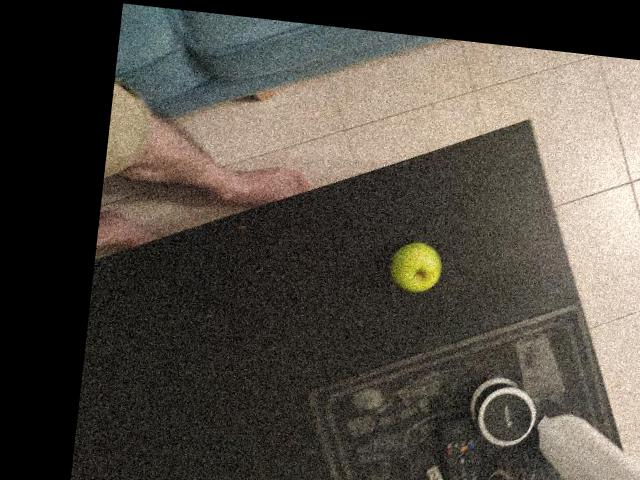apple: (475, 156, 547, 240)
